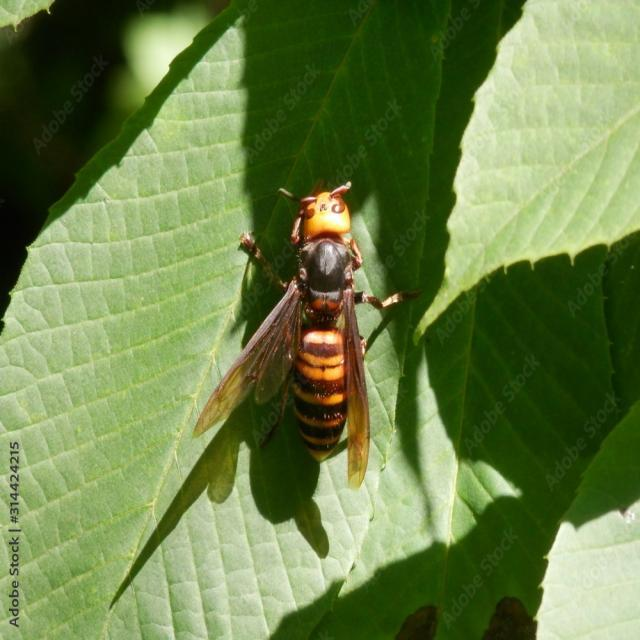Wasp: (215, 179, 404, 485)
